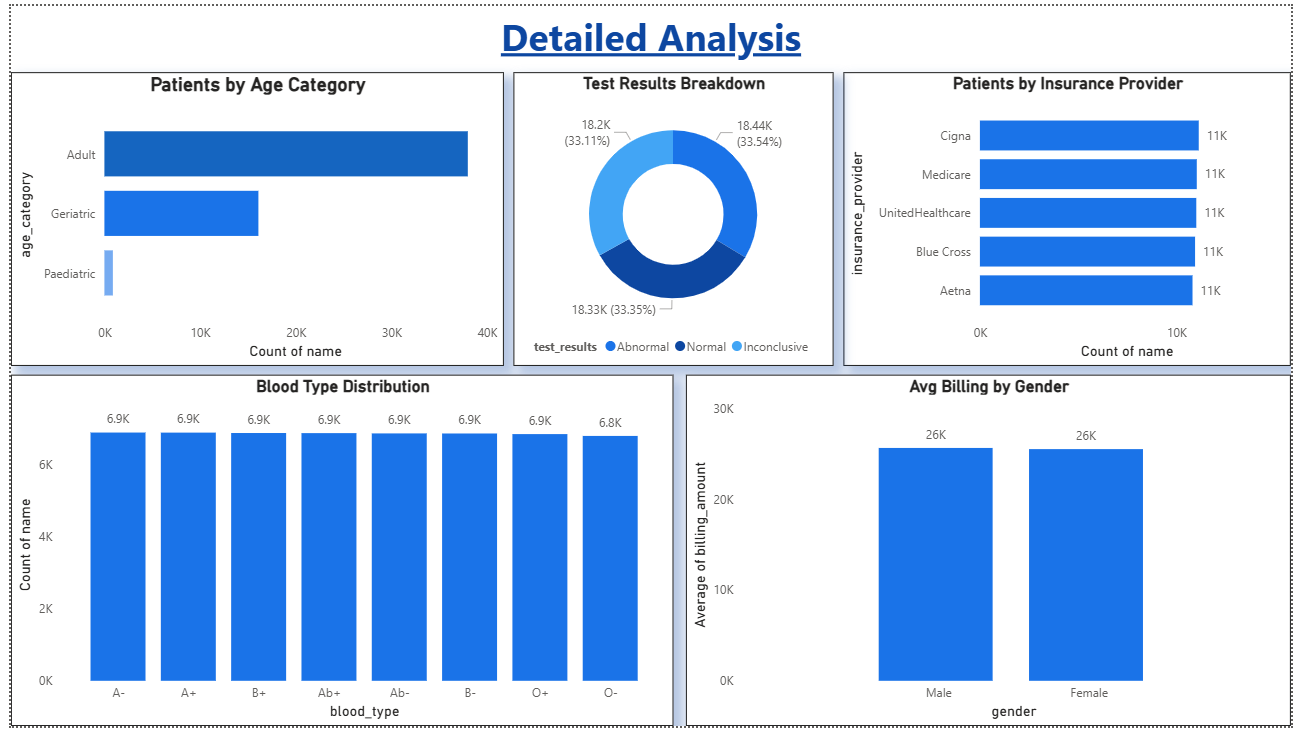

Layout of this report page (visuals, bound fields, positions):
{"tool":"powerbi","page":{"name":"Page 2","canvas":[1280,720],"ordinal":1},"visuals":[{"type":"textbox","box":[0,0,1280,66.2],"z":0},{"type":"barChart","title":"Patients by Age Category","fields":{"Category":["healthcare_cleaned.age_category"],"Y":["CountNonNull(healthcare_cleaned.name)"]},"box":[0,66.2,492.5,293.8],"z":1000},{"type":"clusteredBarChart","title":"Patients by Insurance Provider","fields":{"Category":["healthcare_cleaned.insurance_provider"],"Y":["CountNonNull(healthcare_cleaned.name)"]},"box":[832.5,66.2,447.5,293.8],"z":2000},{"type":"donutChart","title":"Test Results Breakdown","fields":{"Category":["healthcare_cleaned.test_results"],"Y":["CountNonNull(healthcare_cleaned.name)"]},"box":[502.5,66.2,320,293.8],"z":3000},{"type":"clusteredColumnChart","title":"Blood Type Distribution","fields":{"Category":["healthcare_cleaned.blood_type"],"Y":["CountNonNull(healthcare_cleaned.name)"]},"box":[0,368.8,662.5,351.2],"z":4000},{"type":"clusteredColumnChart","title":"Avg Billing by Gender","fields":{"Category":["healthcare_cleaned.gender"],"Y":["Avg(healthcare_cleaned.billing_amount)"]},"box":[675,368.8,605,351.2],"z":5000}]}

Visuals, with their boxes in screenshot pixels (x1, y1, x2, y2), scaled from the page's 1280x720 canvas onto the 1306x733 screenshot:
textbox: 0, 0, 1305, 67
"Patients by Age Category" barChart: 0, 67, 503, 366
"Patients by Insurance Provider" clusteredBarChart: 849, 67, 1305, 366
"Test Results Breakdown" donutChart: 513, 67, 839, 366
"Blood Type Distribution" clusteredColumnChart: 0, 375, 676, 732
"Avg Billing by Gender" clusteredColumnChart: 689, 375, 1305, 732
